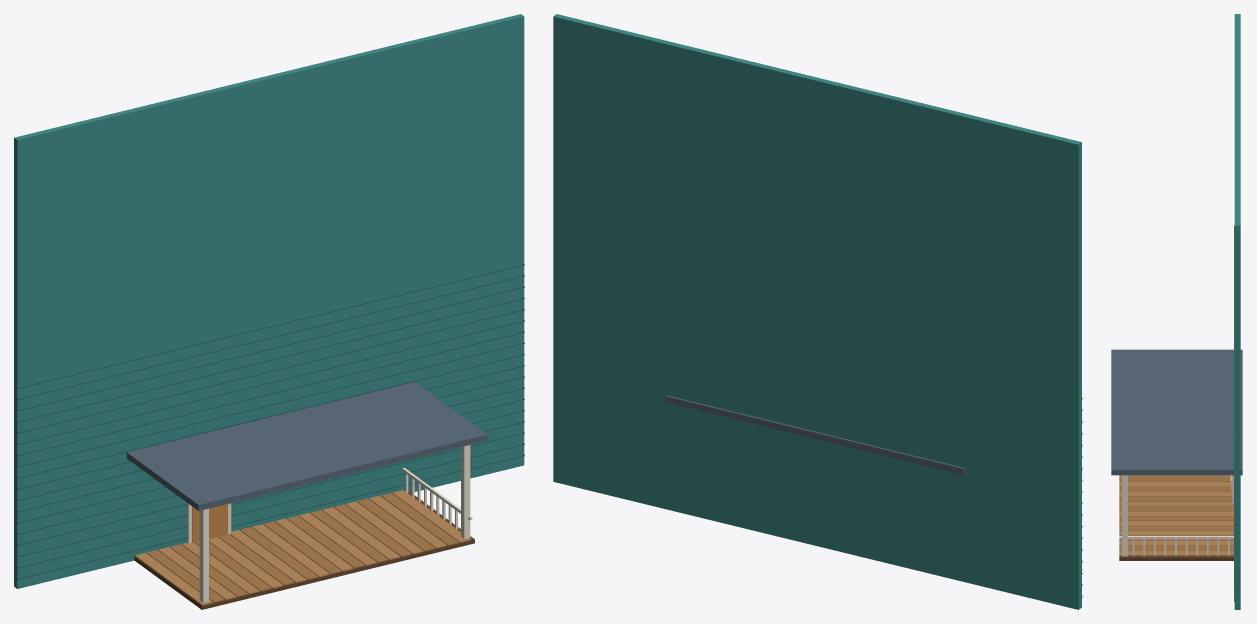
Rendered from porch.glb.
3 renders of one model, left to right at view 1: azimuth 30°, elevation 25°; view 2: azimuth 150°, elevation 25°; view 3: azimuth 270°, elevation 25°, orthographic. The views are drawn at different scales.
Visible parts, largest first — view 1: porch; view 2: porch; view 3: porch.
Boxes of the visible parts, x1,y1,x2,y2 form: porch: (14,14,524,609); porch: (553,14,1082,609); porch: (1111,14,1242,609).
Bounding box in the file's own units: 26 × 22 × 6.8.
